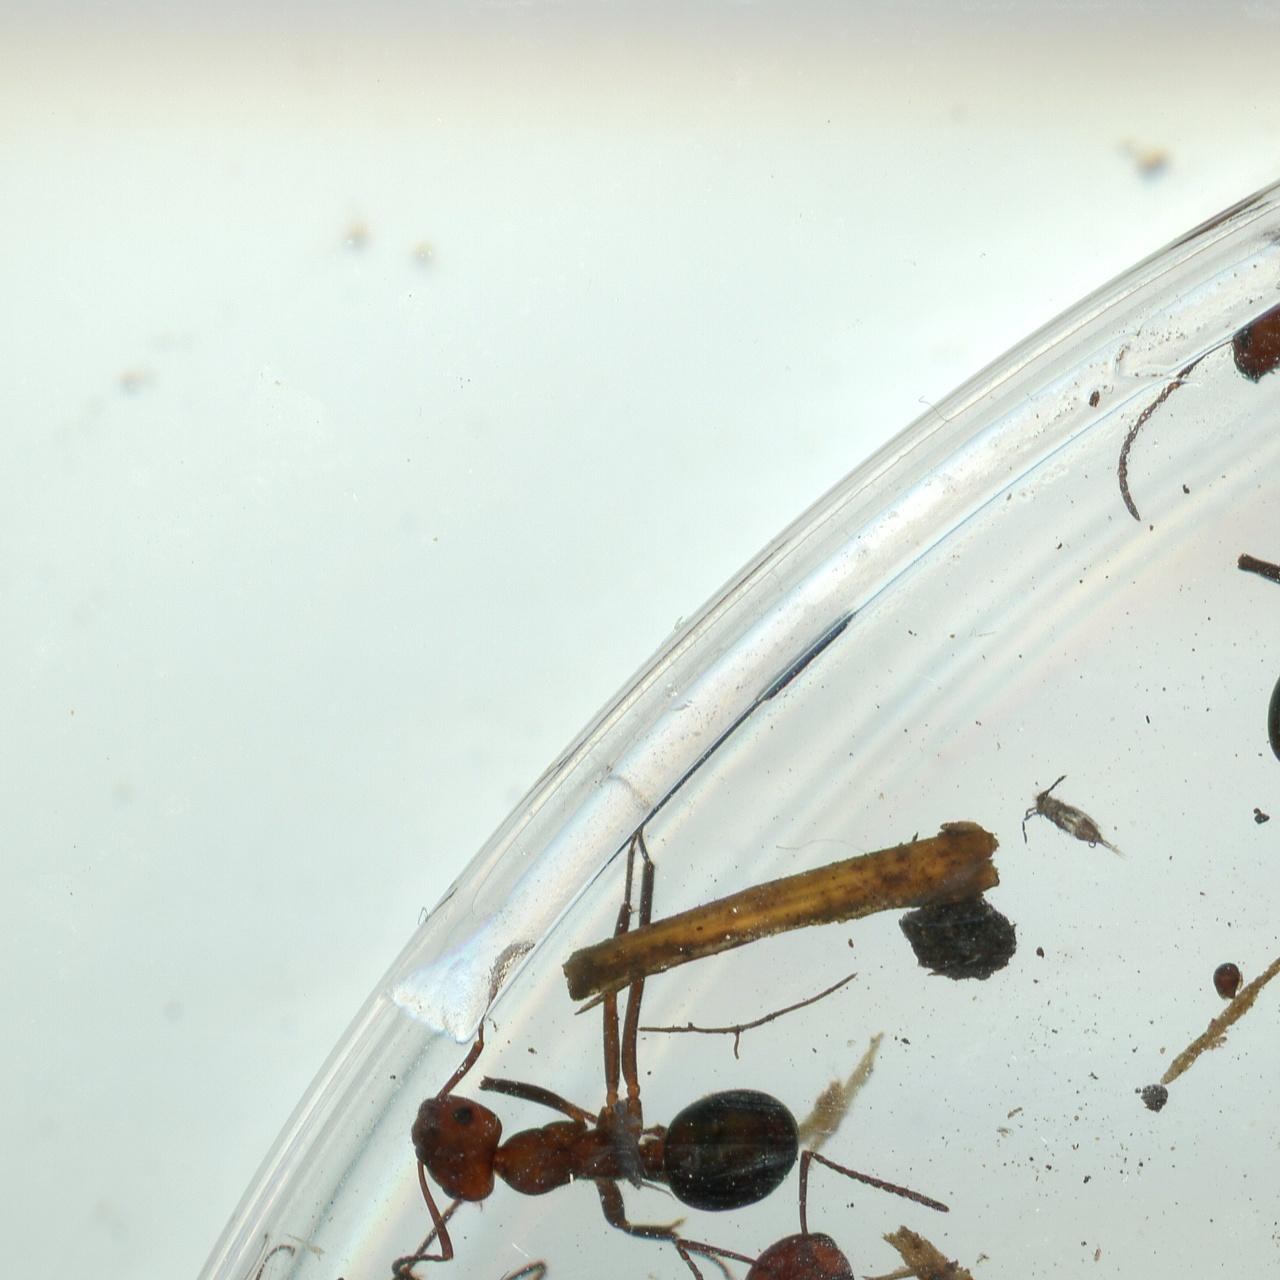arthropod: (386, 815, 804, 1280), (386, 1076, 1149, 1280), (61, 1119, 768, 1280), (1099, 290, 1280, 560), (1213, 508, 1280, 864), (1003, 756, 1157, 899), (1210, 960, 1247, 1002)
